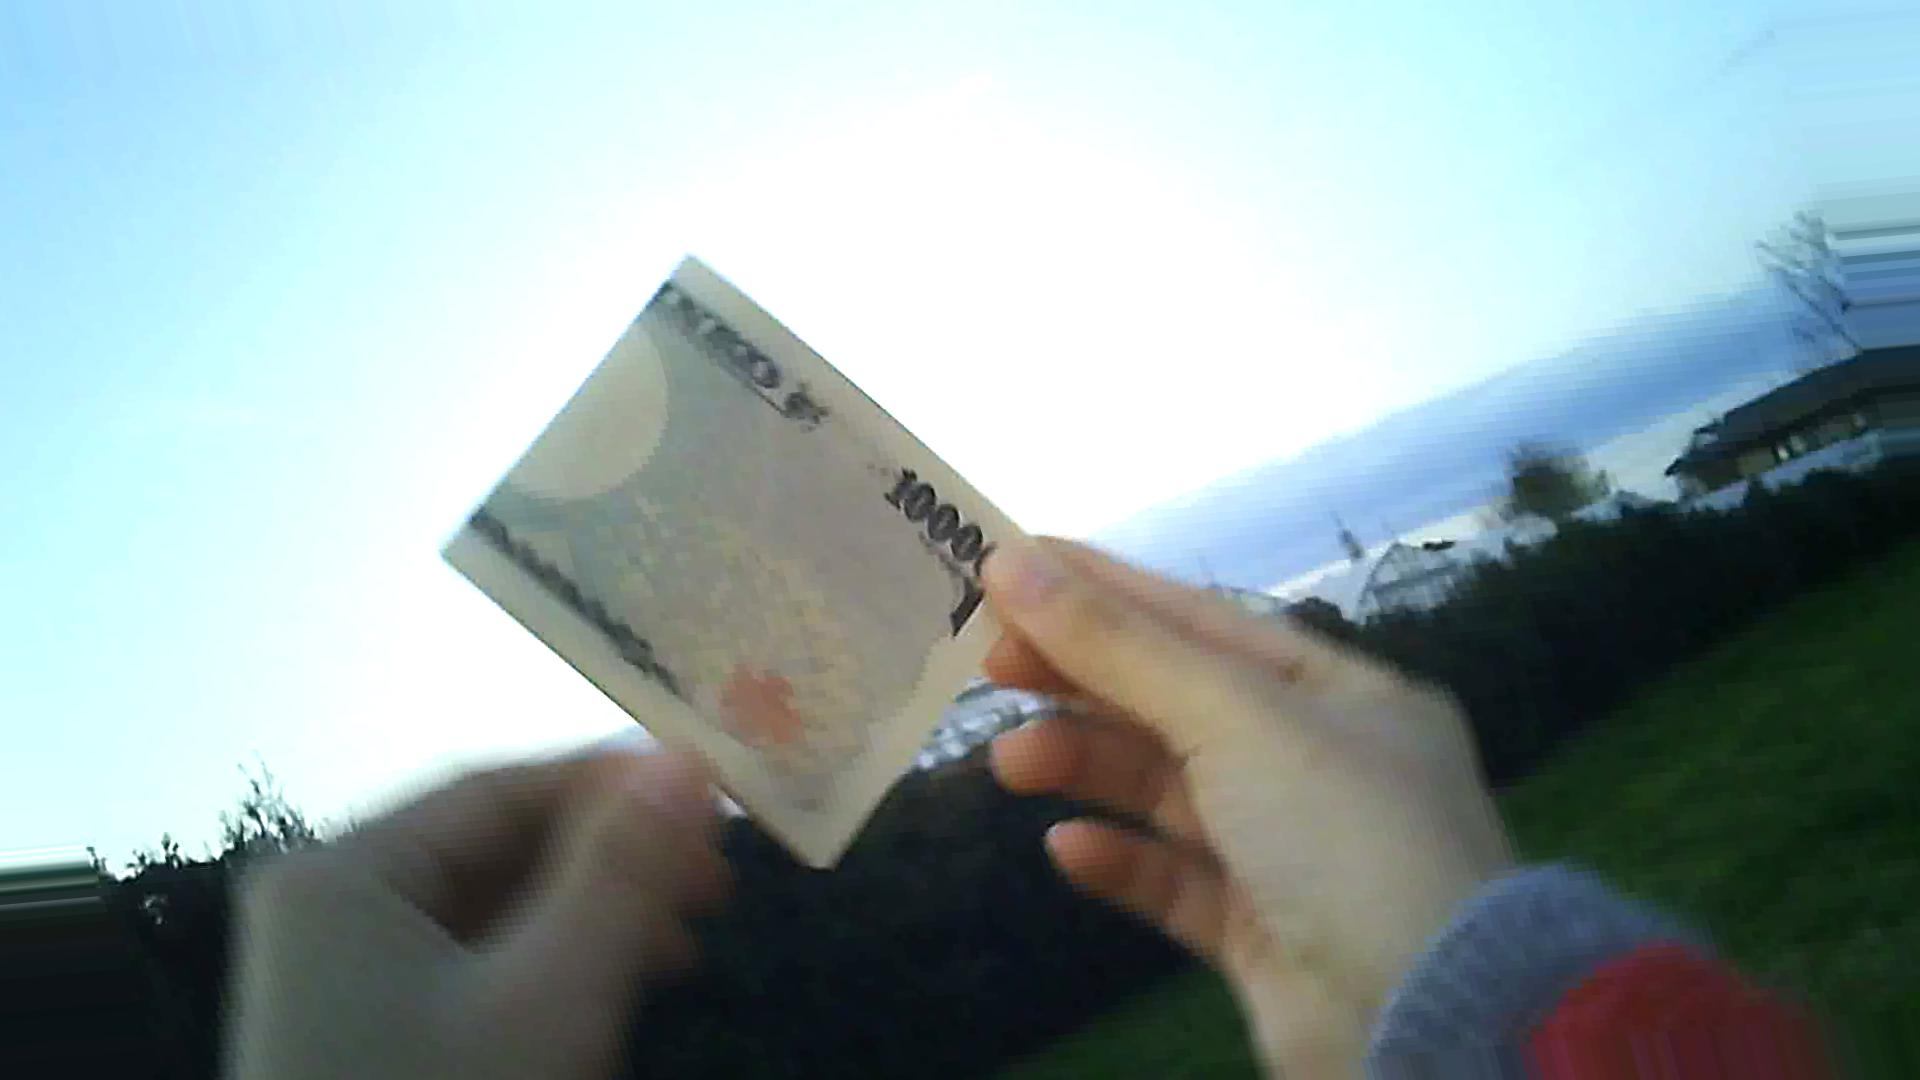10,000 Yen: (415, 245, 1029, 866)
